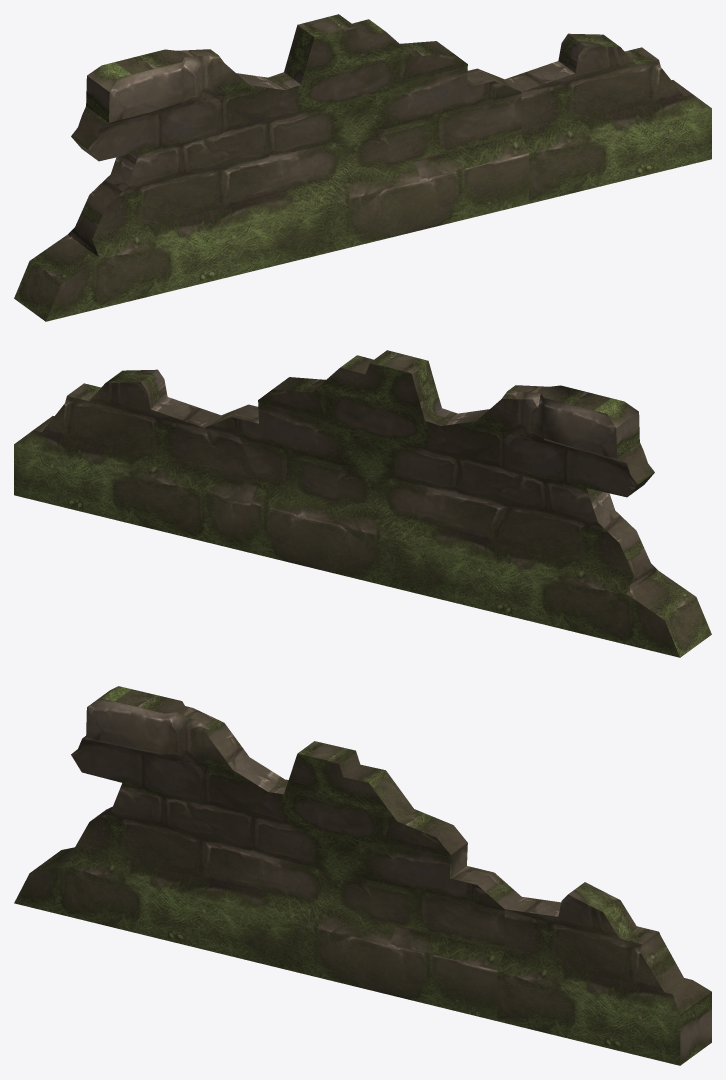
The model's file is yj_wall_3.FBX.
The picture shows the model from 3 angles, top to bottom: view 1: azimuth 30°, elevation 25°; view 2: azimuth 150°, elevation 25°; view 3: azimuth 330°, elevation 25°; orthographic projection.
Parts seen in each view (by area): view 1: yj_wall_3; view 2: yj_wall_3; view 3: yj_wall_3.
Boxes of the visible parts, bbox=[...] form: yj_wall_3: bbox=[14, 14, 711, 321]; yj_wall_3: bbox=[14, 350, 711, 657]; yj_wall_3: bbox=[14, 686, 711, 1065].
Size of the model in its own units: 77.57 by 24.42 by 6.42.
